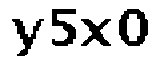0: (116, 6, 151, 48)
5: (51, 4, 78, 49)
x: (80, 14, 114, 50)
y: (9, 14, 46, 60)
